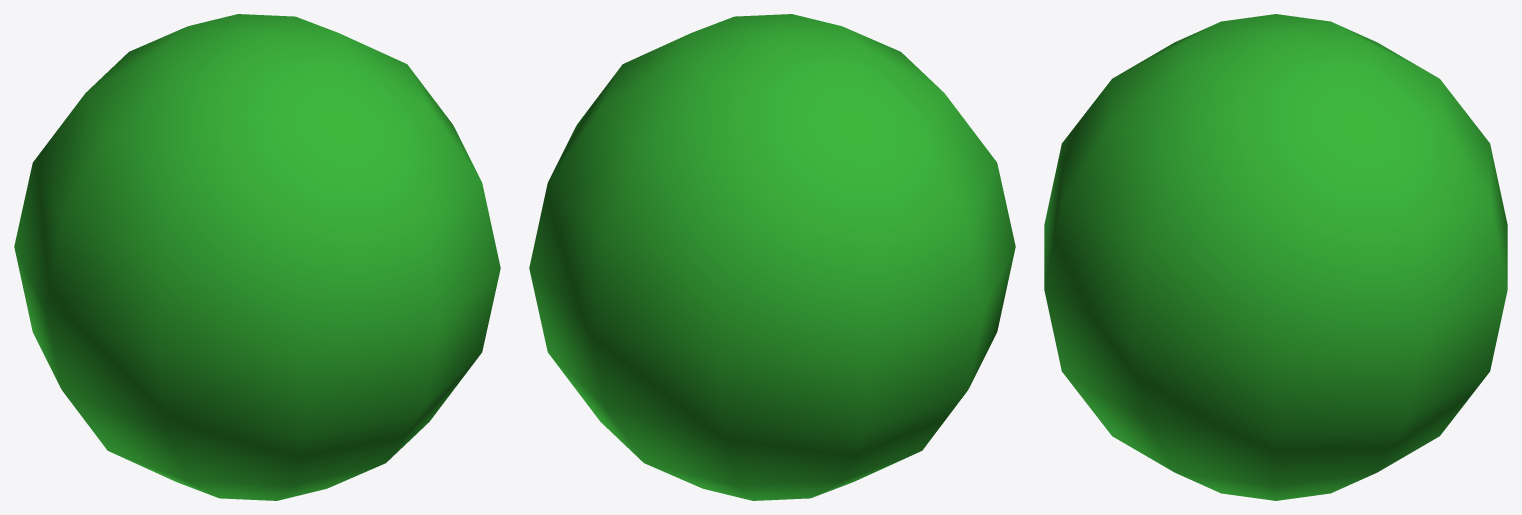
Rendered from florabelha_stage2.obj.
3 renders of one model, left to right at view 1: azimuth 30°, elevation 25°; view 2: azimuth 150°, elevation 25°; view 3: azimuth 270°, elevation 25°, orthographic.
Bounding box in the file's own units: 2 × 2 × 1.9.
